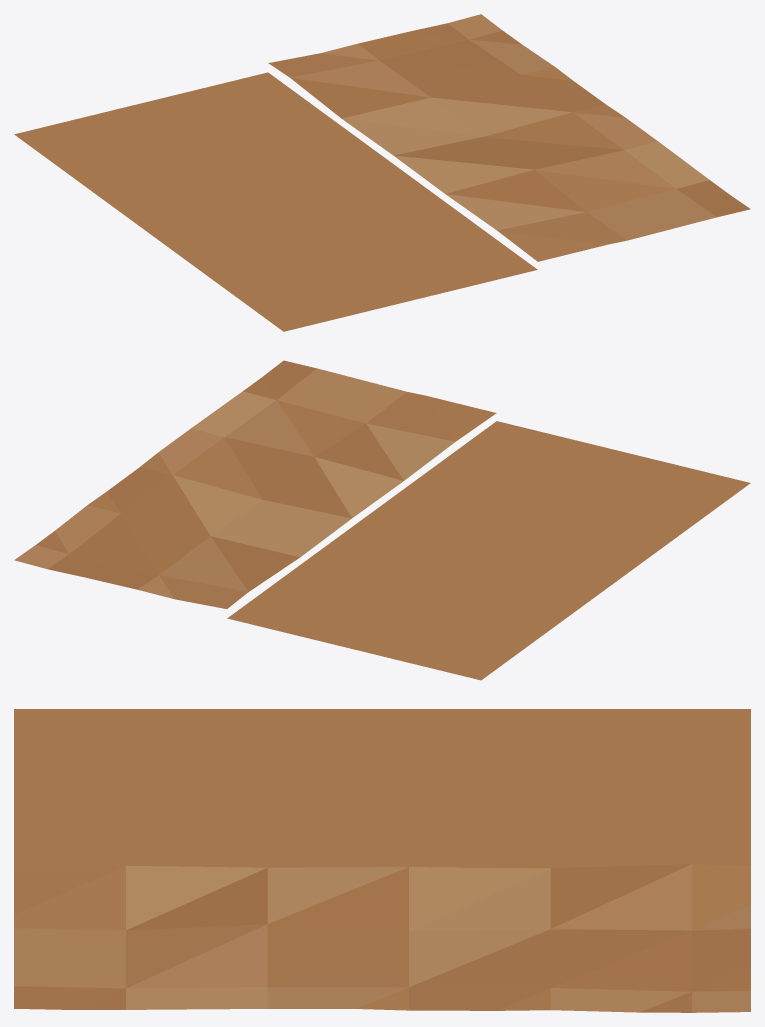
The picture shows the model from 3 angles, top to bottom: view 1: azimuth 30°, elevation 25°; view 2: azimuth 150°, elevation 25°; view 3: azimuth 270°, elevation 25°; orthographic projection. The views are drawn at different scales.
Parts seen in each view (by area): view 1: baked; view 2: baked; view 3: baked.
Part boxes in pixels (<box>): baked: <box>14,14,750,331</box>; baked: <box>14,360,750,680</box>; baked: <box>14,709,750,1012</box>.
Bounding box in the file's own units: 62.5 × 1.35 × 62.5.
